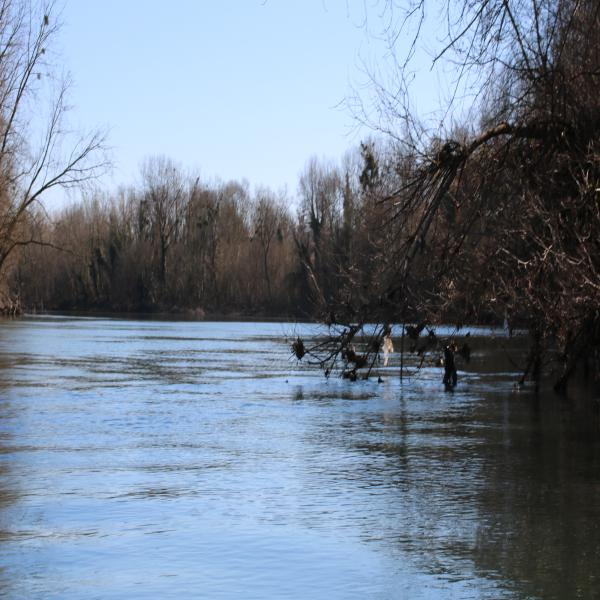fragments: (381, 333, 394, 365), (502, 309, 509, 341)
